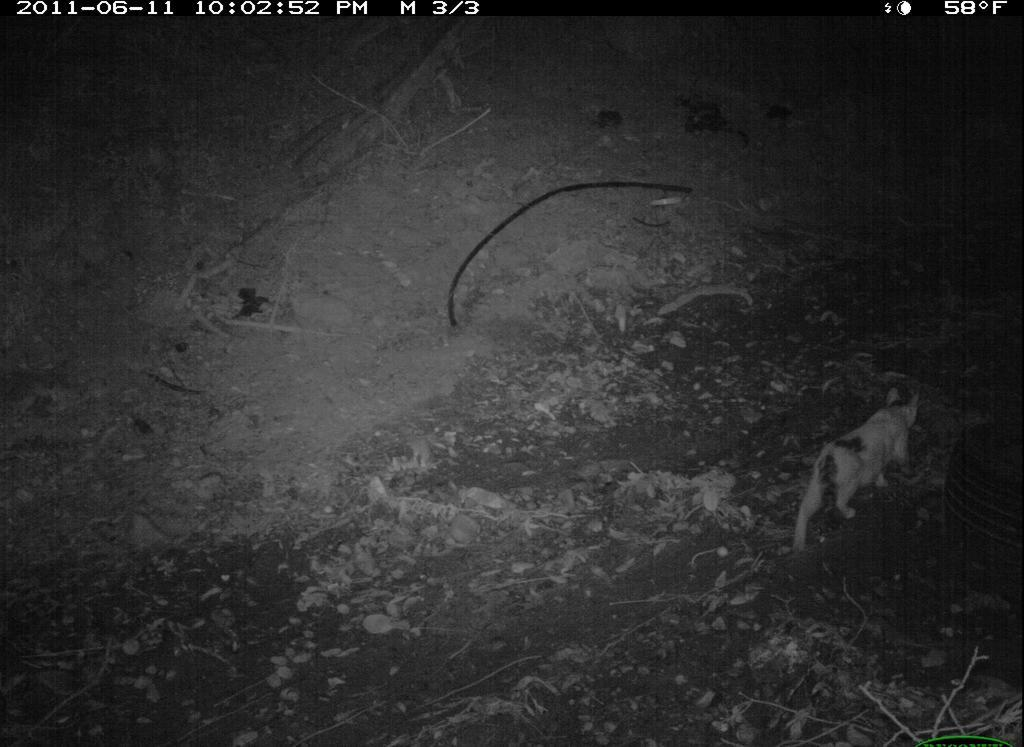cat: (786, 377, 923, 555)
